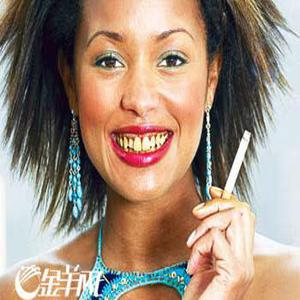cigarette: (221, 130, 253, 206)
